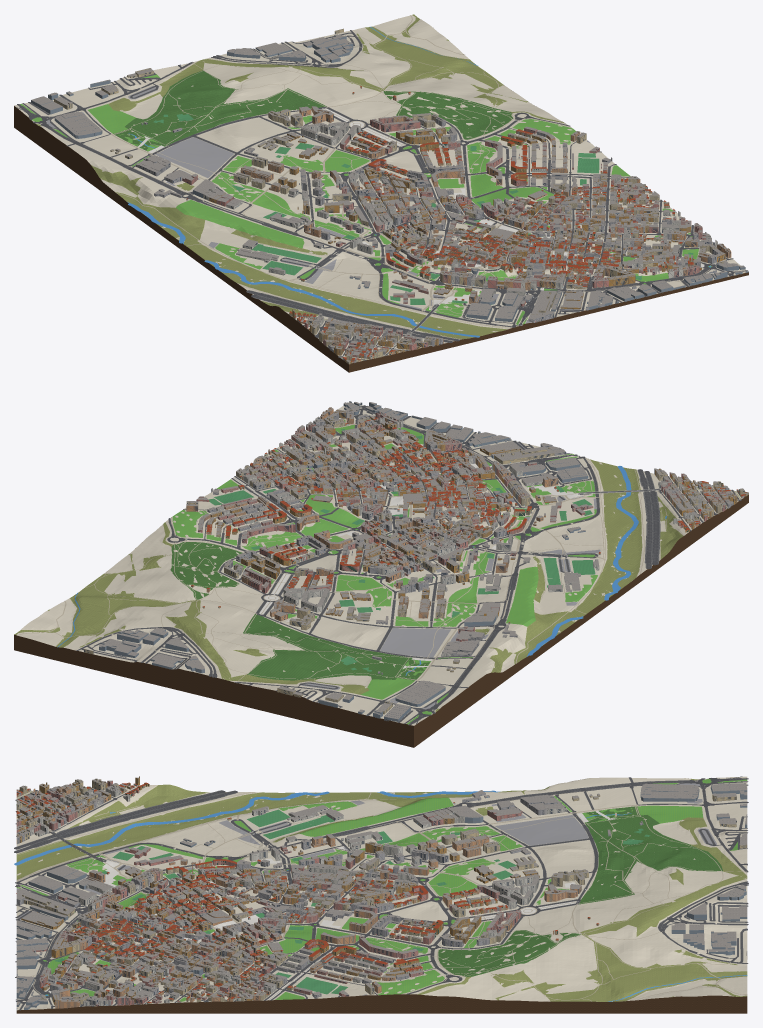
File: ripollet.glb
The picture shows the model from 3 angles, top to bottom: view 1: azimuth 30°, elevation 25°; view 2: azimuth 150°, elevation 25°; view 3: azimuth 270°, elevation 25°; orthographic projection. The views are drawn at different scales.
Parts seen in each view (by area): view 1: suelo, azotea, calzada, matorral, cesped, bosque, peatonal, tierra, muro_crema_piso, muro_ocre_piso, muro_blanco_piso, muro_melocoton_piso (+13 smaller); view 2: suelo, azotea, matorral, calzada, tierra, cesped, bosque, muro_crema_piso, peatonal, muro_blanco_piso, muro_ocre_piso, muro_melocoton_piso (+13 smaller); view 3: suelo, azotea, matorral, calzada, cesped, tierra, bosque, muro_blanco_piso, muro_melocoton_piso, muro_crema_piso, muro_ocre_piso, muro_gris_piso (+14 smaller).
Part boxes in pixels (<box>): suelo: <box>14,15,746,362</box>; azotea: <box>31,28,746,362</box>; calzada: <box>16,30,747,360</box>; matorral: <box>36,14,564,360</box>; cesped: <box>20,74,711,325</box>; bosque: <box>113,70,513,151</box>; peatonal: <box>81,15,709,360</box>; tierra: <box>14,106,748,372</box>; muro_crema_piso: <box>54,29,723,364</box>; muro_ocre_piso: <box>209,128,725,358</box>; muro_blanco_piso: <box>149,117,717,359</box>; muro_melocoton_piso: <box>240,106,731,356</box>; suelo: <box>16,402,741,725</box>; azotea: <box>85,401,748,719</box>; matorral: <box>14,459,740,711</box>; calzada: <box>76,402,741,725</box>; tierra: <box>14,494,748,747</box>; cesped: <box>172,419,597,724</box>; bosque: <box>170,542,430,680</box>; muro_crema_piso: <box>84,409,748,714</box>; peatonal: <box>17,415,742,700</box>; muro_blanco_piso: <box>216,417,727,656</box>; muro_ocre_piso: <box>207,410,737,616</box>; muro_melocoton_piso: <box>186,407,734,621</box>; suelo: <box>16,776,747,1010</box>; azotea: <box>16,776,747,1007</box>; matorral: <box>16,778,747,1001</box>; calzada: <box>14,776,748,1010</box>; cesped: <box>16,779,747,1001</box>; tierra: <box>16,777,747,1013</box>; bosque: <box>438,806,722,976</box>; muro_blanco_piso: <box>18,785,566,1006</box>; muro_melocoton_piso: <box>16,786,581,1008</box>; muro_crema_piso: <box>16,779,747,1004</box>; muro_ocre_piso: <box>16,776,539,1005</box>; muro_gris_piso: <box>16,786,643,1005</box>.
Size of the model in its own units: 1381 by 92.86 by 1992.
39 materials, 24 textured.
